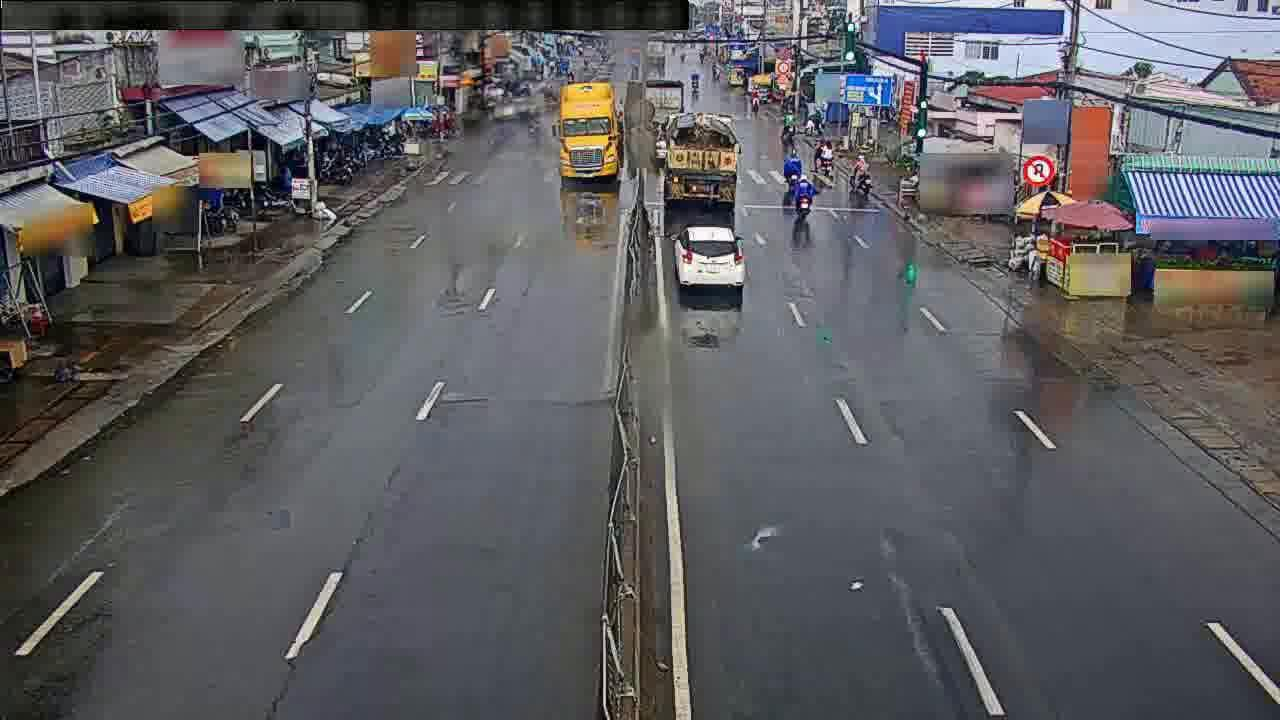8: (557, 82, 624, 181), (669, 116, 739, 208)
container: (669, 215, 742, 290)
motorbike: (788, 168, 816, 220), (849, 151, 872, 196), (781, 145, 803, 185), (814, 136, 834, 170), (777, 109, 793, 139)
